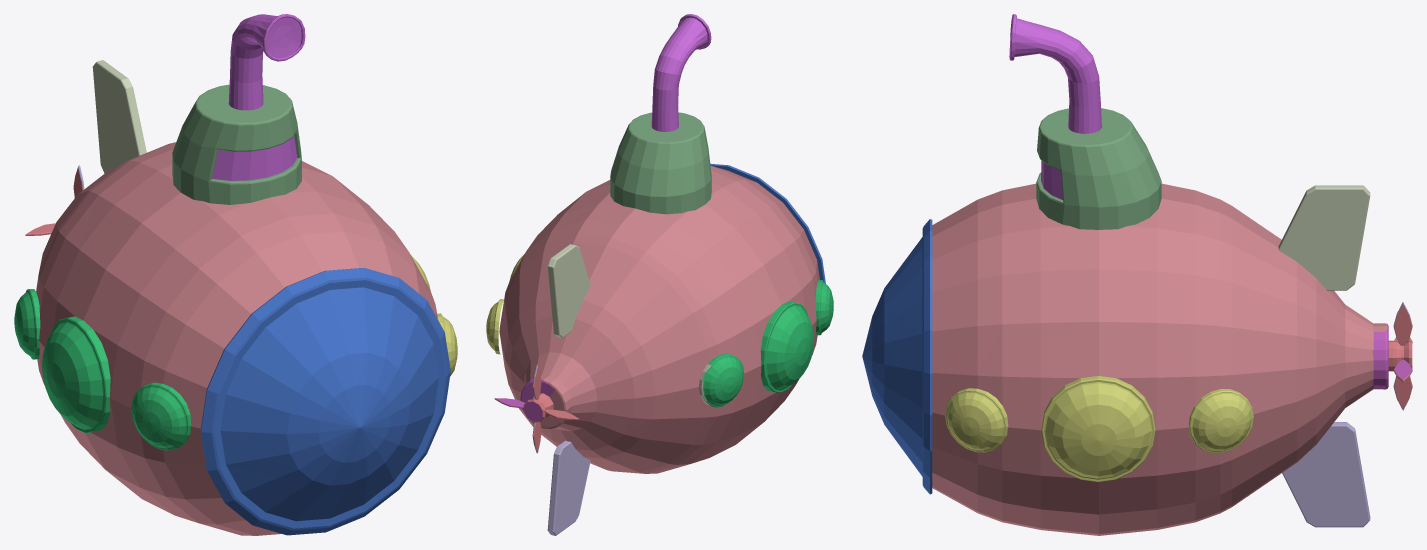
3 views of the same model, side by side, from view 1: azimuth 30°, elevation 25°; view 2: azimuth 150°, elevation 25°; view 3: azimuth 270°, elevation 25° (orthographic). The views are drawn at different scales.
Visible parts, largest first — view 1: world; view 2: world; view 3: world.
Part boxes in pixels (x1,y1,x2,y2): world: [14, 14, 457, 535]; world: [486, 14, 833, 535]; world: [862, 14, 1412, 535].
Bounding box in the file's own units: 0.7203 × 1 × 0.9759.
